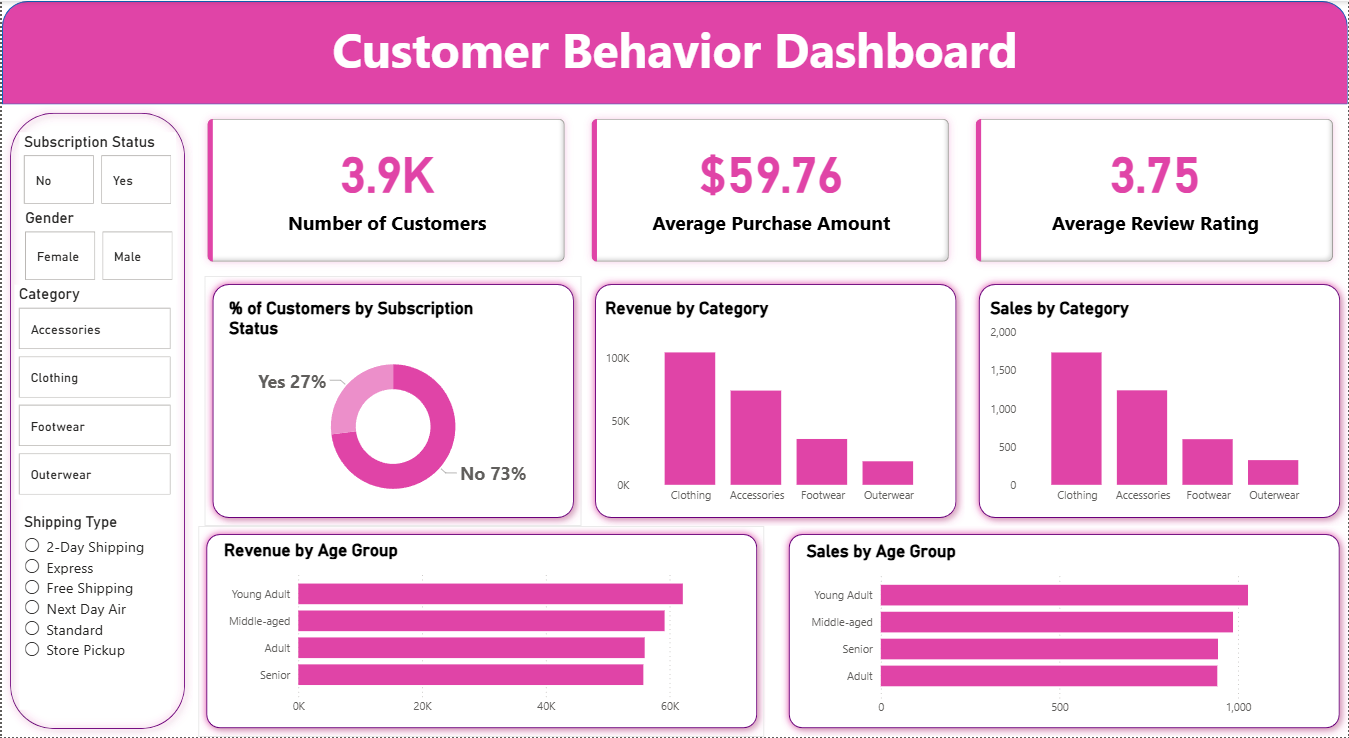

The page's visual inventory and layout, read from the dashboard file:
{"tool":"powerbi","page":{"name":"Page 1","canvas":[1500,820],"ordinal":0},"visuals":[{"type":"cardVisual","fields":{"Data":["public customer.Number of Customers","public customer.Average Purchase Amount","public customer.Average Review Rating"]},"box":[212.9,115.3,1286.5,191.6],"z":2000},{"type":"shape","box":[218.3,585.6,631.7,234.2],"z":2500,"group":"g1"},{"type":"shape","box":[0,0,1499.4,115.3],"z":3000},{"type":"textbox","box":[0,12.4,1499.4,102.9],"z":4000},{"type":"shape","box":[225.4,307,420.5,278.6],"z":5000},{"type":"donutChart","title":"% of Customers by Subscription Status","fields":{"Category":["public customer.subscription_status"],"Y":["CountNonNull(public customer.customer_id)"]},"box":[248.4,331.8,376.2,237.8],"z":6000},{"type":"shape","box":[1078.9,307,420.5,278.6],"z":7000},{"type":"shape","box":[652.1,307,420.5,278.6],"z":8000},{"type":"clusteredColumnChart","title":"Revenue by Category","fields":{"Y":["Sum(public customer.purchase_amount)"],"Category":["public customer.category"]},"box":[667.2,331.8,385.1,237.8],"z":9000},{"type":"clusteredColumnChart","title":"Sales by Category","fields":{"Y":["CountNonNull(public customer.customer_id)"],"Category":["public customer.category"]},"box":[1096.6,331.8,385.1,237.8],"z":10000},{"type":"shape","box":[0,115.3,212.9,704.5],"z":11000},{"type":"advancedSlicerVisual","fields":{"Values":["public customer.subscription_status"]},"box":[19.5,146.2,174.1,85],"z":12000},{"type":"advancedSlicerVisual","fields":{"Values":["public customer.gender"]},"box":[20.9,231.2,174.1,85],"z":13000},{"type":"advancedSlicerVisual","fields":{"Values":["public customer.category"]},"box":[13.9,316.1,179.7,239.5],"z":14000},{"type":"listSlicer","fields":{"Values":["public customer.shipping_type"]},"box":[19.5,569.6,168.6,220],"z":15000},{"type":"shape","box":[867.7,585.6,631.7,234.2],"z":16000},{"type":"clusteredBarChart","title":"Sales by Age Group","fields":{"Y":["CountNonNull(public customer.customer_id)"],"Category":["public customer.age_group"]},"box":[890.8,601.5,585.6,204.1],"z":17000},{"type":"clusteredBarChart","title":"Revenue by Age Group","fields":{"Y":["Sum(public customer.purchase_amount)"],"Category":["public customer.age_group"]},"box":[241.4,601.6,585.6,204.1],"z":17500,"group":"g1"},{"type":"group","id":"g1","title":"Group 1","box":[218.3,585.6,631.7,234.2],"z":17501}]}

Visuals, with their boxes in screenshot pixels (x1, y1, x2, y2), scaled from the page's 1500x820 canvas onto the 1349x738 screenshot:
cardVisual - public customer.Number of Customers x public customer.Average Purchase Amount: 191/104/1348/276
shape: 196/527/764/737
shape: 0/0/1348/104
textbox: 0/11/1348/104
shape: 203/276/581/527
"% of Customers by Subscription Status" donutChart: 223/299/562/513
shape: 970/276/1348/527
shape: 586/276/965/527
"Revenue by Category" clusteredColumnChart: 600/299/946/513
"Sales by Category" clusteredColumnChart: 986/299/1333/513
shape: 0/104/191/737
advancedSlicerVisual - public customer.subscription_status: 18/132/174/208
advancedSlicerVisual - public customer.gender: 19/208/175/285
advancedSlicerVisual - public customer.category: 13/284/174/500
listSlicer - public customer.shipping_type: 18/513/169/711
shape: 780/527/1348/737
"Sales by Age Group" clusteredBarChart: 801/541/1328/725
"Revenue by Age Group" clusteredBarChart: 217/541/744/725
"Group 1" group: 196/527/764/737
